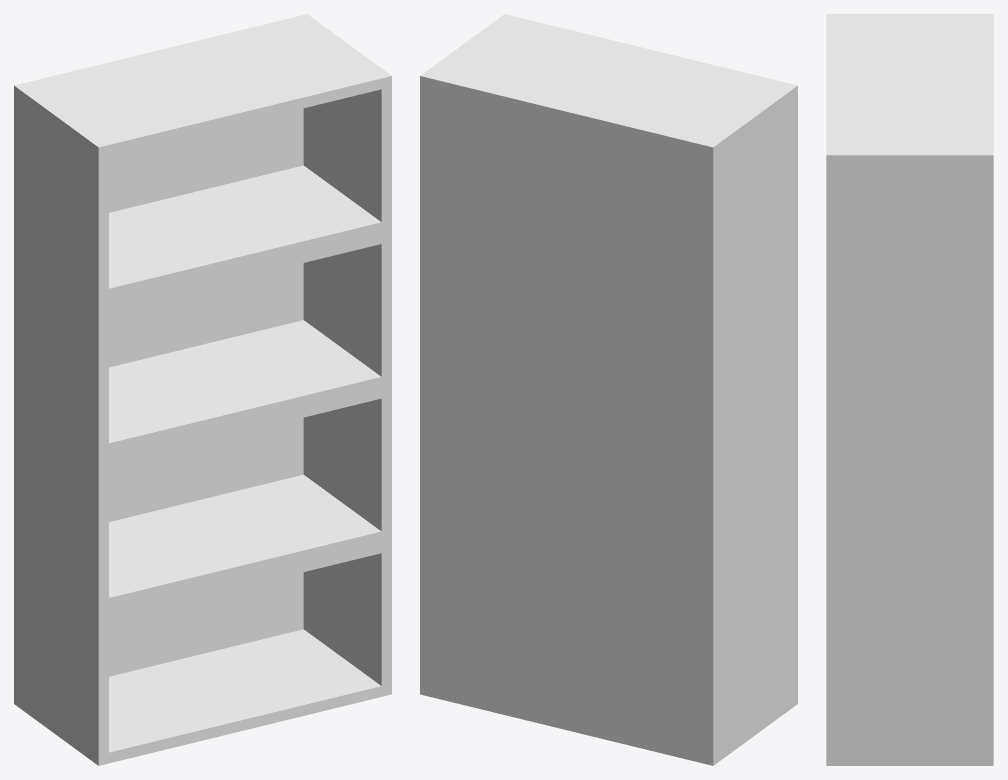
The model's file is estante.obj.
3 renders of one model, left to right at view 1: azimuth 30°, elevation 25°; view 2: azimuth 150°, elevation 25°; view 3: azimuth 270°, elevation 25°, orthographic.
Parts seen in each view (by area): view 1: Mesh; view 2: Mesh; view 3: Mesh.
Part boxes in pixels (x1=…): Mesh: x1=14, y1=14, x2=391, y2=765; Mesh: x1=420, y1=14, x2=797, y2=765; Mesh: x1=826, y1=14, x2=993, y2=765.
Size of the model in its own units: 1.07 by 2.16 by 0.5356.
Materials: 1 (1 with a texture image).
